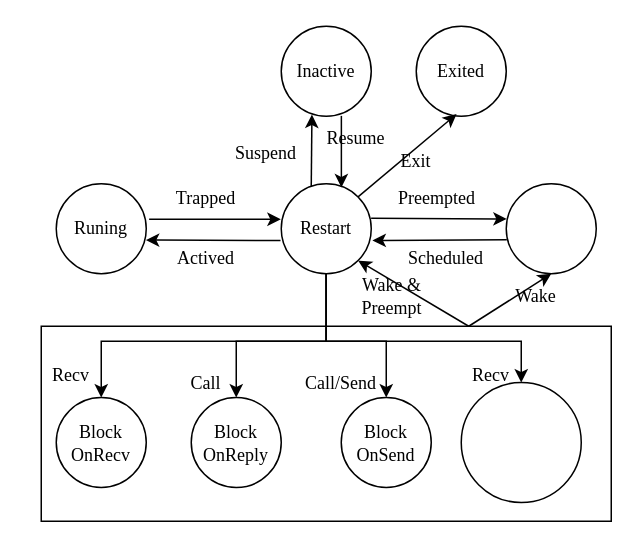
This 638x548 diagram has some shape labels left out. The shapes that lost their labels are listed below. From the top down, each one's centre as x and y in pixels, then its label:
the point at 550,228: Ready
the point at 520,441: Block OnNotification
